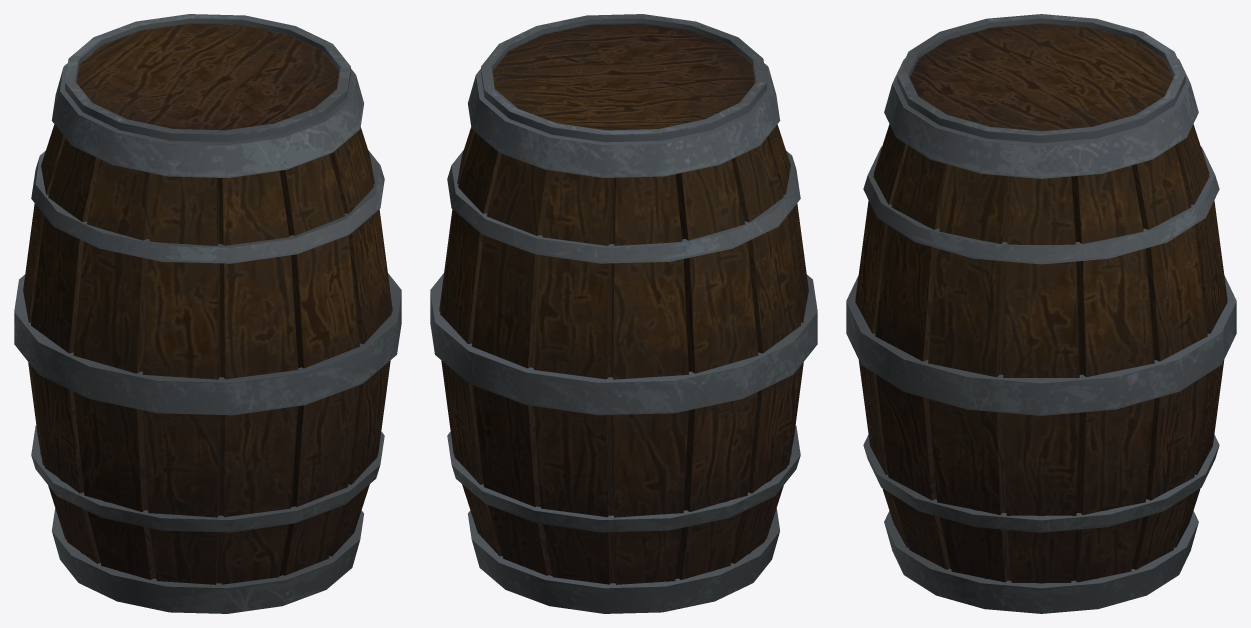
Rendered from barell.glb.
3 renders of one model, left to right at view 1: azimuth 30°, elevation 25°; view 2: azimuth 150°, elevation 25°; view 3: azimuth 270°, elevation 25°, orthographic.
Parts seen in each view (by area): view 1: barell; view 2: barell; view 3: barell.
Part boxes in pixels (left/top/right/bottom): barell: left=14, top=14, right=401, bottom=613; barell: left=430, top=14, right=817, bottom=613; barell: left=846, top=14, right=1236, bottom=613.
Size of the model in its own units: 1.62 by 2.19 by 1.62.
1 material, 1 textured.
